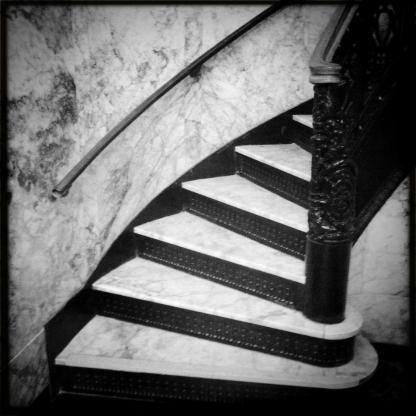stair: (63, 112, 332, 400)
